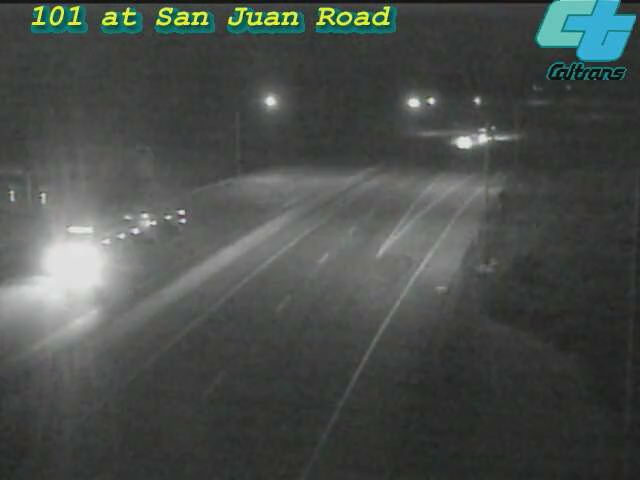vehicle: (41, 216, 121, 296), (464, 110, 514, 160), (440, 117, 490, 167)
